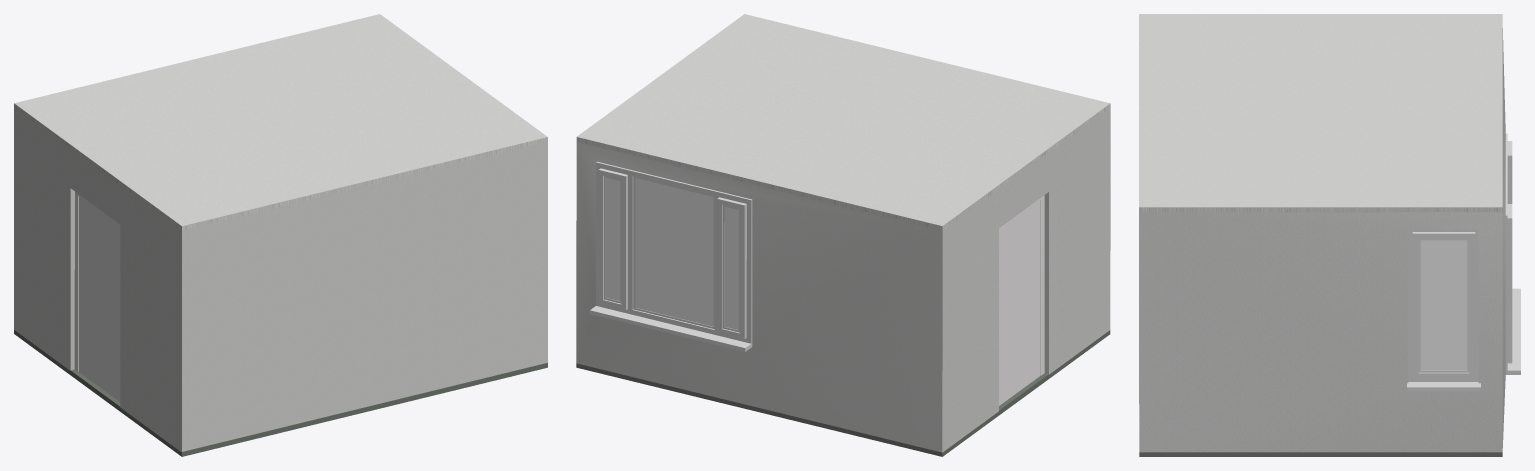
Rendered from FloorPlan403_physics.fbx.
The picture shows the model from 3 angles, left to right: view 1: azimuth 30°, elevation 25°; view 2: azimuth 150°, elevation 25°; view 3: azimuth 270°, elevation 25°; orthographic projection. The views are drawn at different scales.
Parts seen in each view (by area): view 1: FP403:Walls, FP403:Ceiling, FP403:polySurface387, FP403:polySurface389, FP403:polySurface155; view 2: FP403:Walls, FP403:Ceiling, FP403:polySurface64, FP403:polySurface67, FP403:polySurface387, FP403:polySurface389, FP403:polySurface155; view 3: FP403:Walls, FP403:Ceiling, FP403:polySurface15, FP403:polySurface30, FP403:polySurface67, FP403:polySurface389.
Boxes of the visible parts, <box> form: FP403:Walls: <box>14,108,547,452</box>; FP403:Ceiling: <box>14,14,547,230</box>; FP403:polySurface387: <box>78,197,120,401</box>; FP403:polySurface389: <box>14,330,547,456</box>; FP403:polySurface155: <box>74,191,120,371</box>; FP403:Walls: <box>576,108,1110,452</box>; FP403:Ceiling: <box>576,14,1110,231</box>; FP403:polySurface64: <box>606,177,738,330</box>; FP403:polySurface67: <box>590,161,752,351</box>; FP403:polySurface387: <box>999,200,1040,405</box>; FP403:polySurface389: <box>576,330,1110,456</box>; FP403:polySurface155: <box>999,195,1044,375</box>; FP403:Walls: <box>1139,28,1505,452</box>; FP403:Ceiling: <box>1139,14,1502,212</box>; FP403:polySurface15: <box>1420,240,1467,370</box>; FP403:polySurface30: <box>1407,229,1480,391</box>; FP403:polySurface67: <box>1505,133,1520,374</box>; FP403:polySurface389: <box>1139,452,1502,456</box>.
Bounding box in the file's own units: 466 × 274 × 379.
